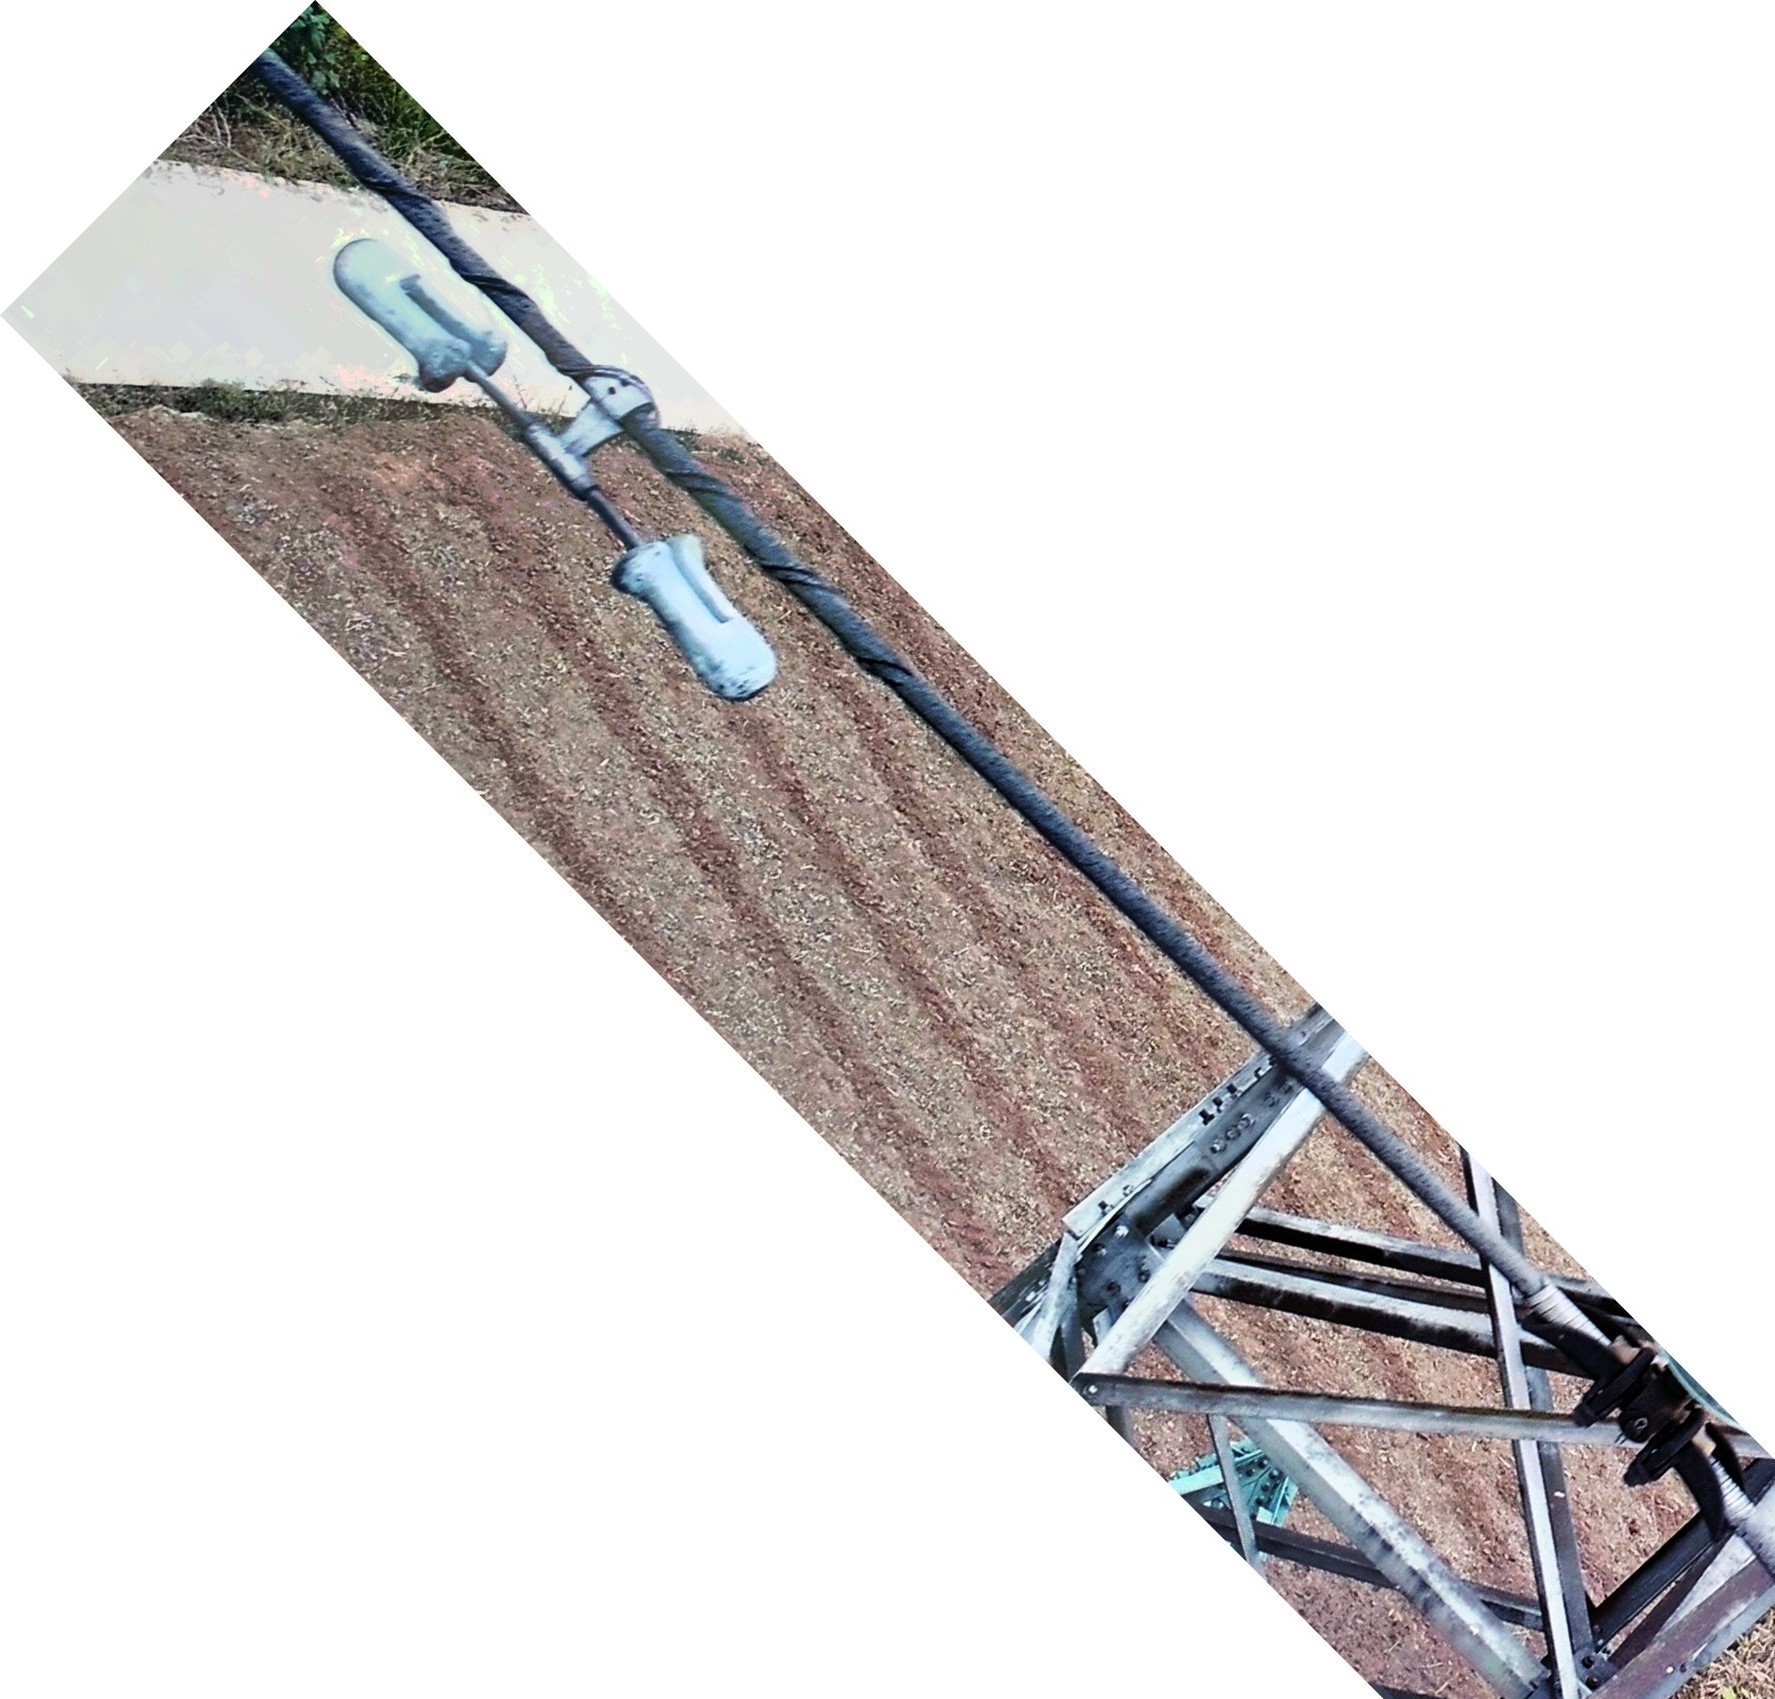Shockproof hammer: (311, 190, 796, 727)
